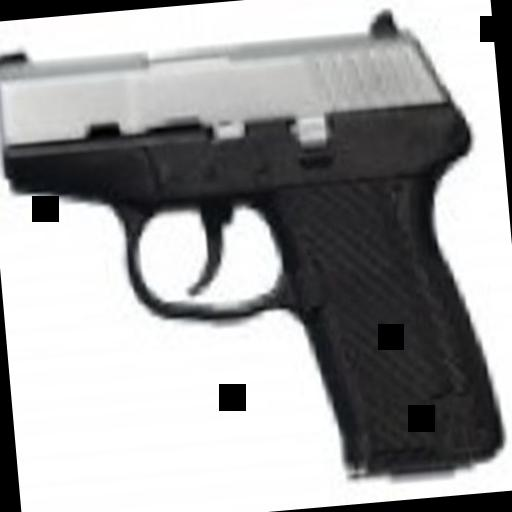Handgun: (0, 0, 503, 501)
